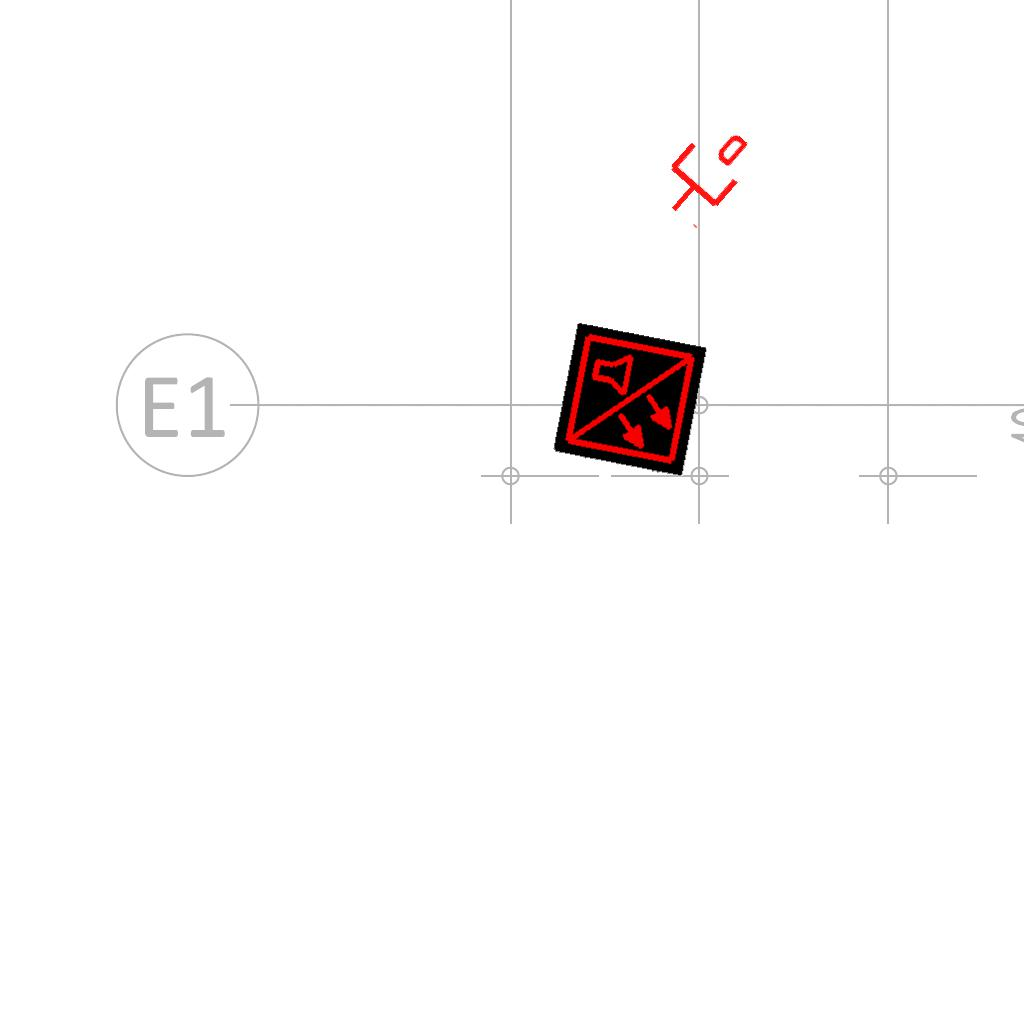Datenanschluss_einfach: (646, 112, 765, 234)
OKW_Multisensormelder_(Kombination_optischer_Rauch-Kahlenmonoxid_Waerme-Melder): (552, 322, 708, 478)
